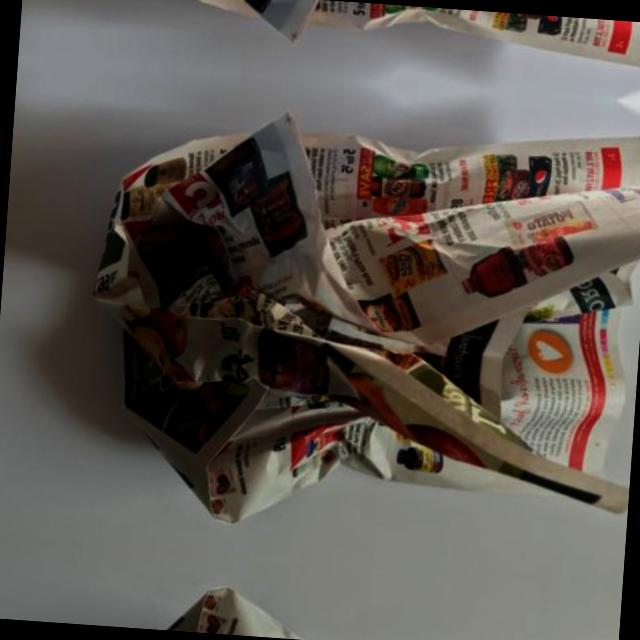paper: (54, 62, 640, 573), (87, 0, 640, 102), (48, 551, 621, 640)
